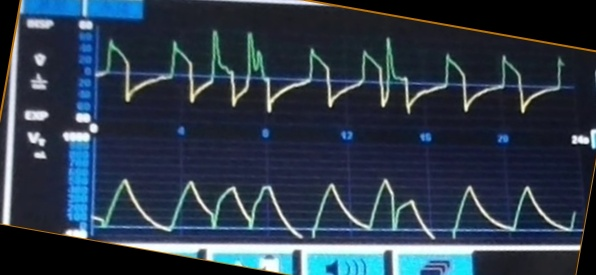Double_Triggering Flow: (101, 27, 566, 121)
Double_Triggering Volume: (96, 169, 578, 240)
